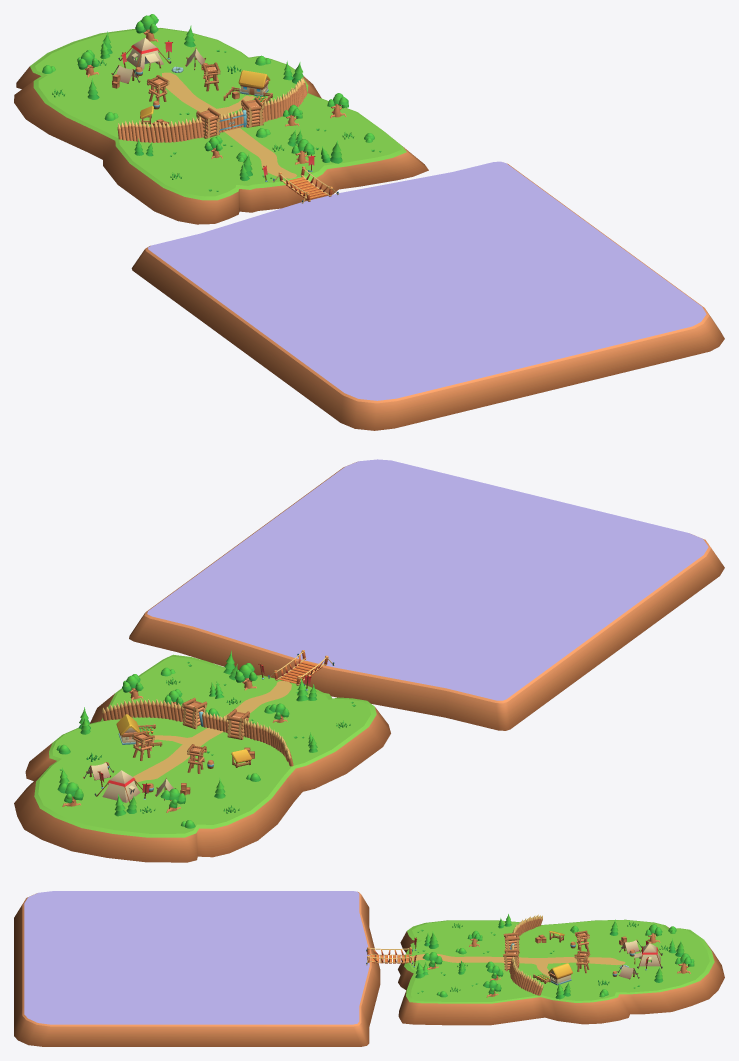
Rendered from env_Enemy_island_1_v03.fbx.
3 views of the same model, one above another, from view 1: azimuth 30°, elevation 25°; view 2: azimuth 150°, elevation 25°; view 3: azimuth 270°, elevation 25° (orthographic). The views are drawn at different scales.
Visible parts, largest first — view 1: HUB_floor, Island_1, Road_1, Bridge, Enemy_house_lvl2; view 2: HUB_floor, Island_1, Road_1, Bridge, Enemy_house_lvl2; view 3: HUB_floor, Island_1, Road_1, Bridge, Enemy_house_lvl2.
Part boxes in pixels (x1,y1,x2,y2): HUB_floor: [131, 161, 724, 430]; Island_1: [14, 28, 428, 224]; Road_1: [162, 72, 296, 178]; Bridge: [272, 166, 338, 203]; Enemy_house_lvl2: [118, 38, 171, 71]; HUB_floor: [129, 459, 724, 730]; Island_1: [14, 654, 390, 862]; Road_1: [133, 681, 291, 782]; Bridge: [268, 650, 334, 686]; Enemy_house_lvl2: [94, 770, 147, 802]; HUB_floor: [14, 891, 380, 1046]; Island_1: [398, 919, 724, 1025]; Road_1: [412, 953, 625, 965]; Bridge: [366, 947, 412, 965]; Enemy_house_lvl2: [634, 943, 662, 968].
Size of what is drawn, in the model's own units: 11136 by 1338 by 23561.
